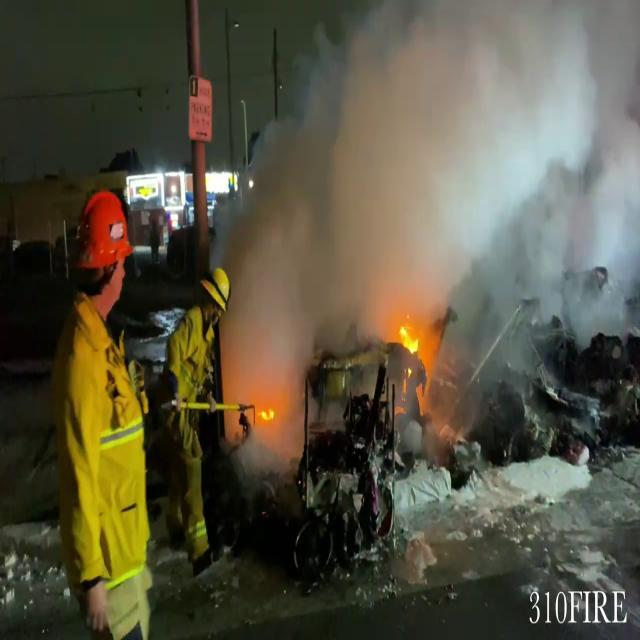Fire: (392, 314, 430, 393)
Smoke: (217, 1, 638, 377)
